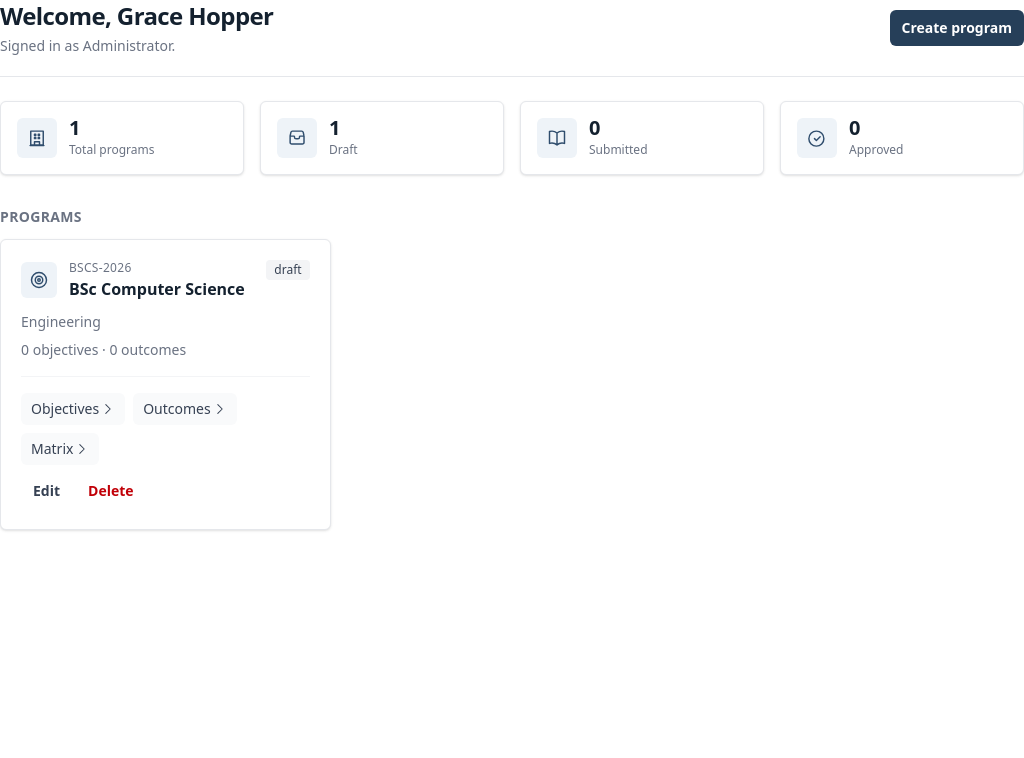
Test: program coordinator assignment › shows the currently assigned coordinator and only offers program_coordinator-role users as candidates
The image size is (1024, 758).
Click the button "Edit".
click(47, 491)  # box [21,473,72,509]
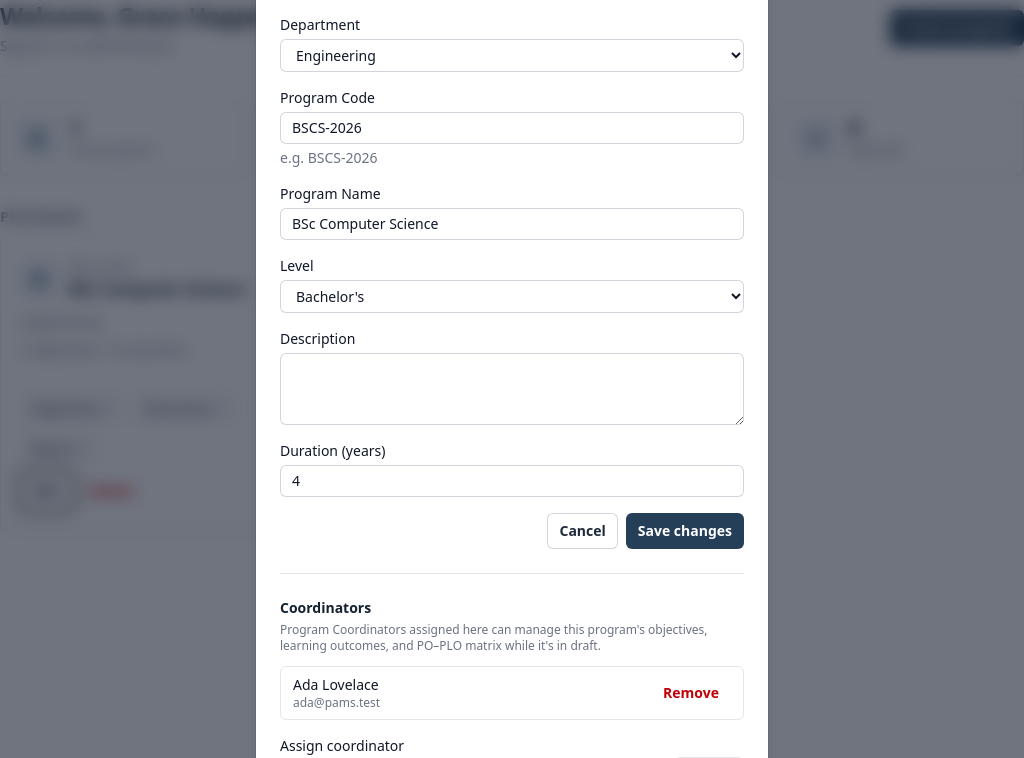
Now the text "Ada Lovelace" is shown, box [293,675,380,695]
